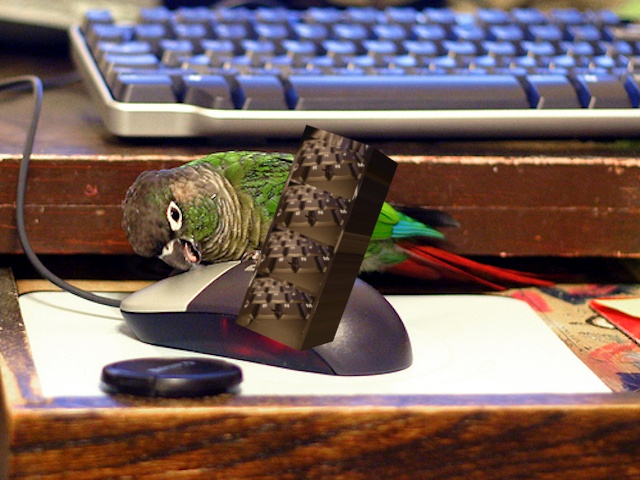file_cabinet: (225, 113, 400, 353)
